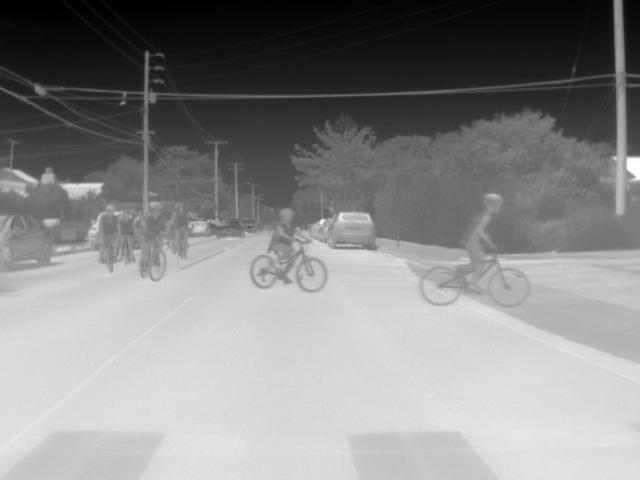car: (0, 213, 54, 268), (326, 210, 379, 249), (214, 218, 244, 237), (312, 218, 331, 238), (318, 220, 333, 242), (242, 218, 259, 234)
person: (461, 190, 508, 294), (268, 204, 302, 285), (139, 203, 169, 271), (97, 204, 118, 260), (171, 201, 189, 250), (86, 220, 99, 246)
